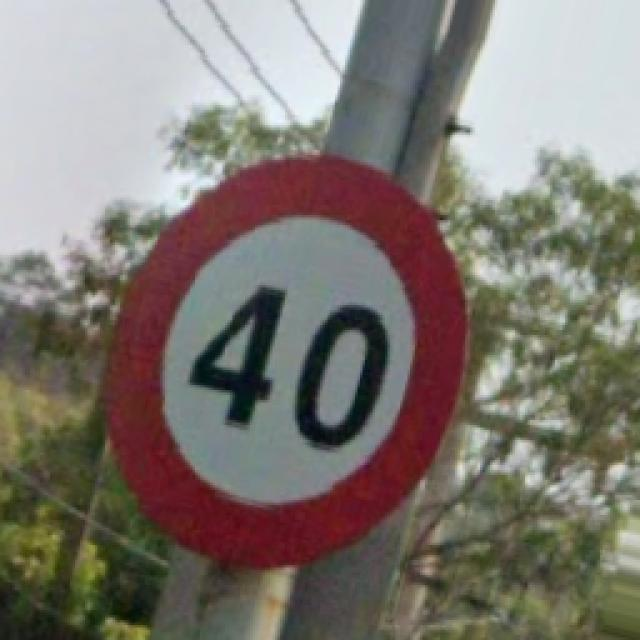Speed Limit -40-: (108, 155, 465, 565)
